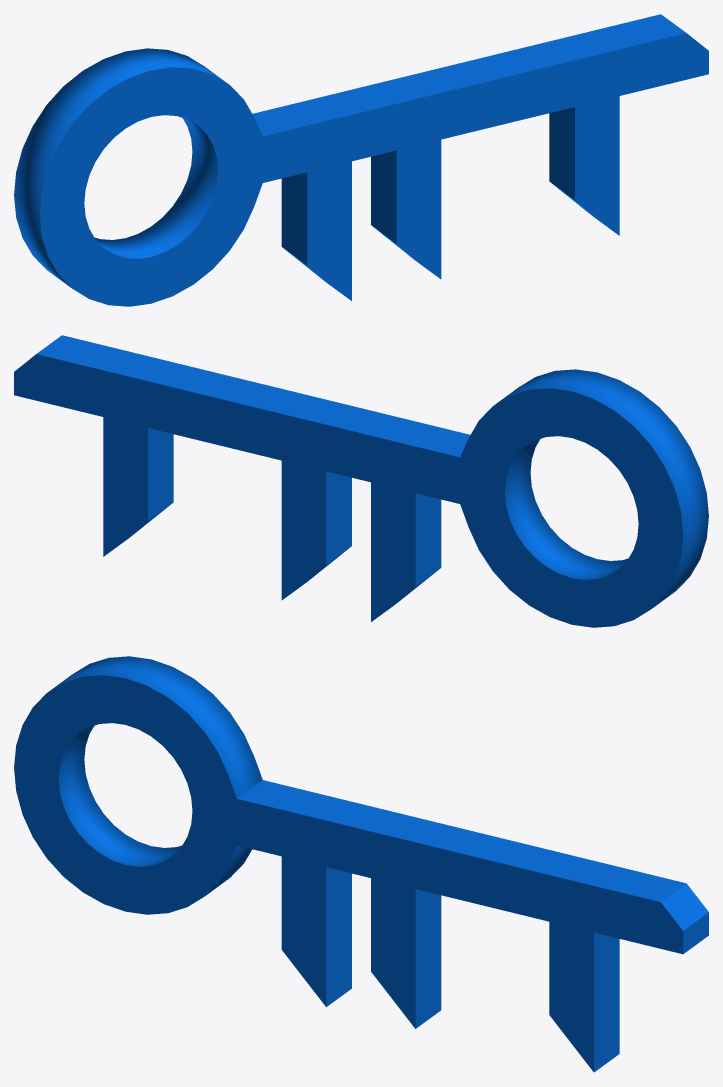
Rendered from Items.fbx_Key_16.fbx.
3 views of the same model, one above another, from view 1: azimuth 30°, elevation 25°; view 2: azimuth 150°, elevation 25°; view 3: azimuth 330°, elevation 25° (orthographic).
Visible parts, largest first — view 1: Key 16; view 2: Key 16; view 3: Key 16.
Boxes of the visible parts, x1,y1,x2,y2 form: Key 16: (14, 14, 708, 306); Key 16: (14, 335, 708, 627); Key 16: (14, 656, 708, 1072).
Bounding box in the file's own units: 30 × 12 × 2.
